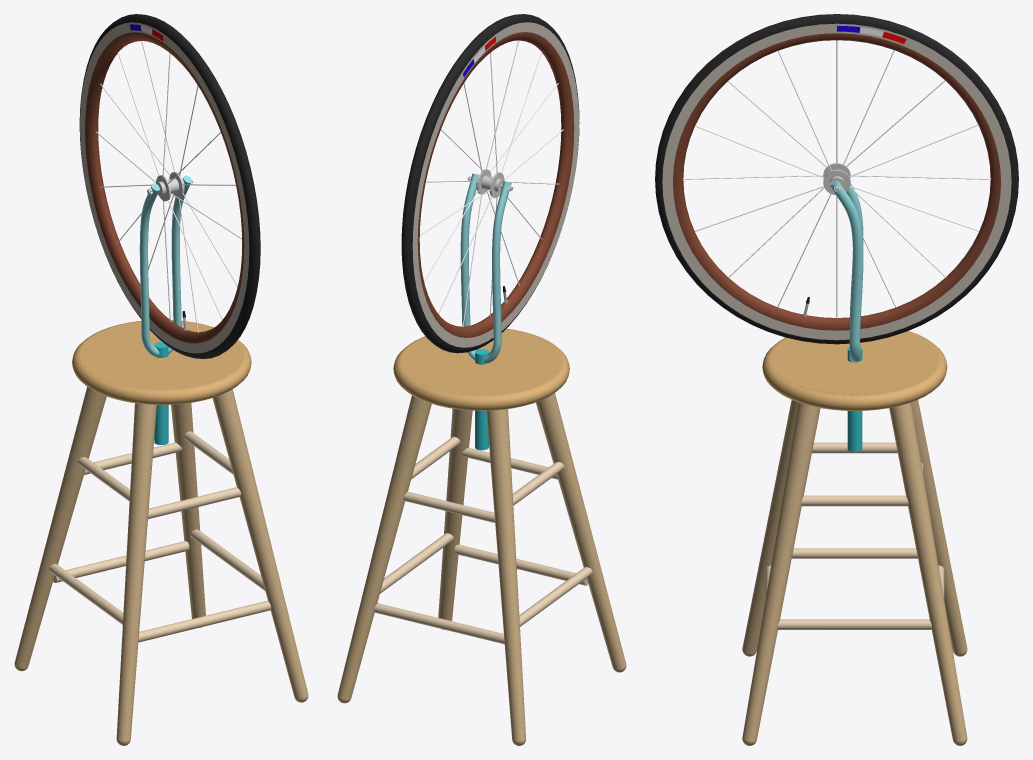
The model's file is stool.gltf.
3 views of the same model, side by side, from view 1: azimuth 30°, elevation 25°; view 2: azimuth 150°, elevation 25°; view 3: azimuth 270°, elevation 25° (orthographic). The views are drawn at different scales.
Parts seen in each view (by area): view 1: stoolTop, leg2, tireRim, leg1, tireRubber, leg4, tireSidewallL, leg3, stoolTopEdge, bottomStrut3, forkTubeL, forkTubeR (+8 smaller); view 2: stoolTop, leg4, tireRim, leg3, tireRubber, leg2, tireSidewallL, leg1, stoolTopEdge, bottomStrut4, forkTubeL, forkTubeR (+8 smaller); view 3: tireSidewallR, tireRim, tireRubber, stoolTop, leg3, leg1, stoolTopEdge, leg2, leg4, forkTubeR, bottomStrut2, bottomStrut1 (+3 smaller).
Part boxes in pixels (x1=…): stoolTop: x1=80, y1=321, x2=242, y2=389; leg2: x1=116, y1=403, x2=156, y2=739; tireRim: x1=85, y1=32, x2=244, y2=343; leg1: x1=212, y1=389, x2=307, y2=698; tireRubber: x1=79, y1=14, x2=260, y2=358; leg4: x1=15, y1=387, x2=106, y2=667; tireSidewallL: x1=80, y1=22, x2=249, y2=353; leg3: x1=171, y1=403, x2=205, y2=618; stoolTopEdge: x1=72, y1=320, x2=251, y2=404; bottomStrut3: x1=138, y1=600, x2=270, y2=642; forkTubeL: x1=139, y1=186, x2=158, y2=338; forkTubeR: x1=171, y1=178, x2=190, y2=327; stoolTop: x1=402, y1=329, x2=561, y2=395; leg4: x1=486, y1=409, x2=525, y2=739; tireRim: x1=417, y1=32, x2=574, y2=337; leg3: x1=338, y1=395, x2=431, y2=698; tireRubber: x1=401, y1=14, x2=579, y2=353; leg2: x1=536, y1=393, x2=625, y2=668; tireSidewallL: x1=412, y1=22, x2=579, y2=347; leg1: x1=438, y1=408, x2=472, y2=620; stoolTopEdge: x1=393, y1=328, x2=569, y2=410; bottomStrut4: x1=374, y1=603, x2=504, y2=644; forkTubeL: x1=492, y1=181, x2=511, y2=345; forkTubeR: x1=460, y1=173, x2=478, y2=326; tireSidewallR: x1=662, y1=23, x2=1011, y2=340; tireRim: x1=673, y1=33, x2=1000, y2=330; tireRubber: x1=655, y1=14, x2=1018, y2=344; stoolTop: x1=770, y1=331, x2=938, y2=394; leg3: x1=889, y1=402, x2=966, y2=740; leg1: x1=742, y1=402, x2=820, y2=740; stoolTopEdge: x1=762, y1=331, x2=947, y2=410; leg2: x1=742, y1=400, x2=798, y2=653; leg4: x1=911, y1=400, x2=966, y2=653; forkTubeR: x1=829, y1=181, x2=863, y2=346; bottomStrut2: x1=777, y1=619, x2=932, y2=629; bottomStrut1: x1=791, y1=548, x2=917, y2=558.
Size of the model in its own units: 2.15 by 7.2 by 3.46.
